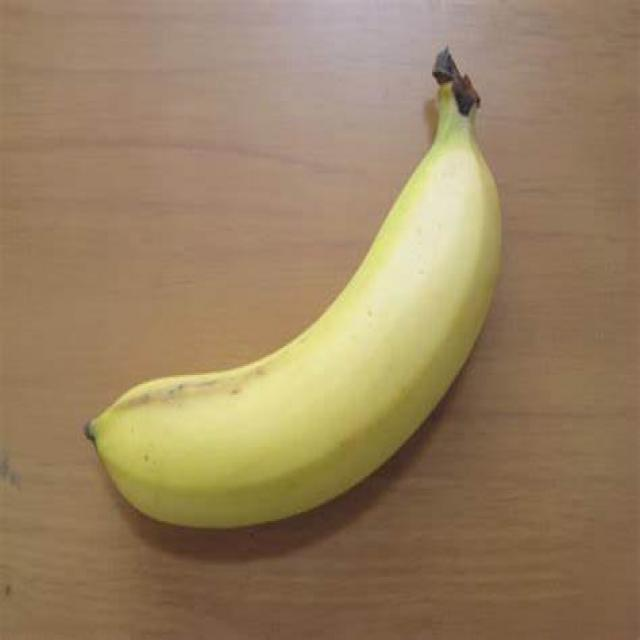Banana: (76, 48, 507, 527)
